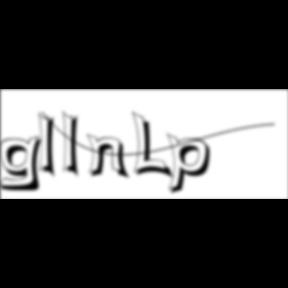I: (38, 110, 62, 182)
L: (132, 110, 176, 182)
g: (0, 134, 50, 194)
l: (64, 108, 86, 182)
n: (86, 132, 134, 181)
p: (167, 132, 217, 198)
